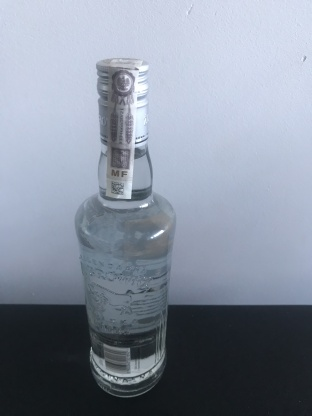nakretka: (94, 55, 152, 148)
